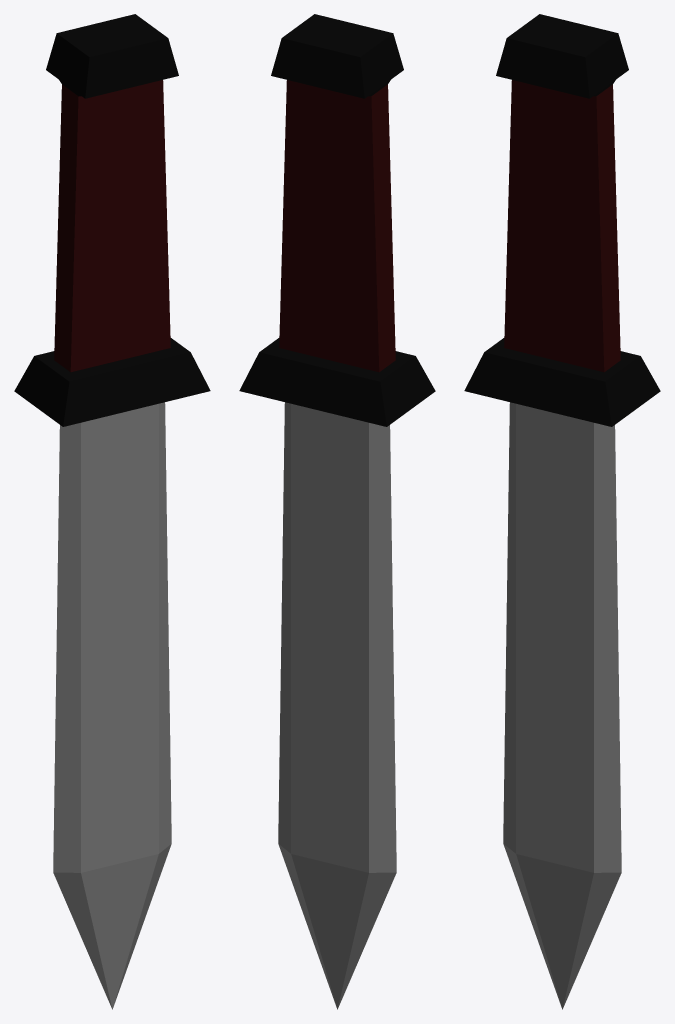
Rendered from Dagger.fbx.
The picture shows the model from 3 angles, left to right: view 1: azimuth 30°, elevation 25°; view 2: azimuth 150°, elevation 25°; view 3: azimuth 330°, elevation 25°; orthographic projection.
Visible parts, largest first — view 1: Dagger; view 2: Dagger; view 3: Dagger.
Part boxes in pixels (box(x1,y1,x2,y2)): Dagger: box(14, 14, 210, 1009); Dagger: box(239, 14, 435, 1009); Dagger: box(464, 14, 660, 1009).
Bounding box in the file's own units: 5.06 × 31.89 × 2.9.
